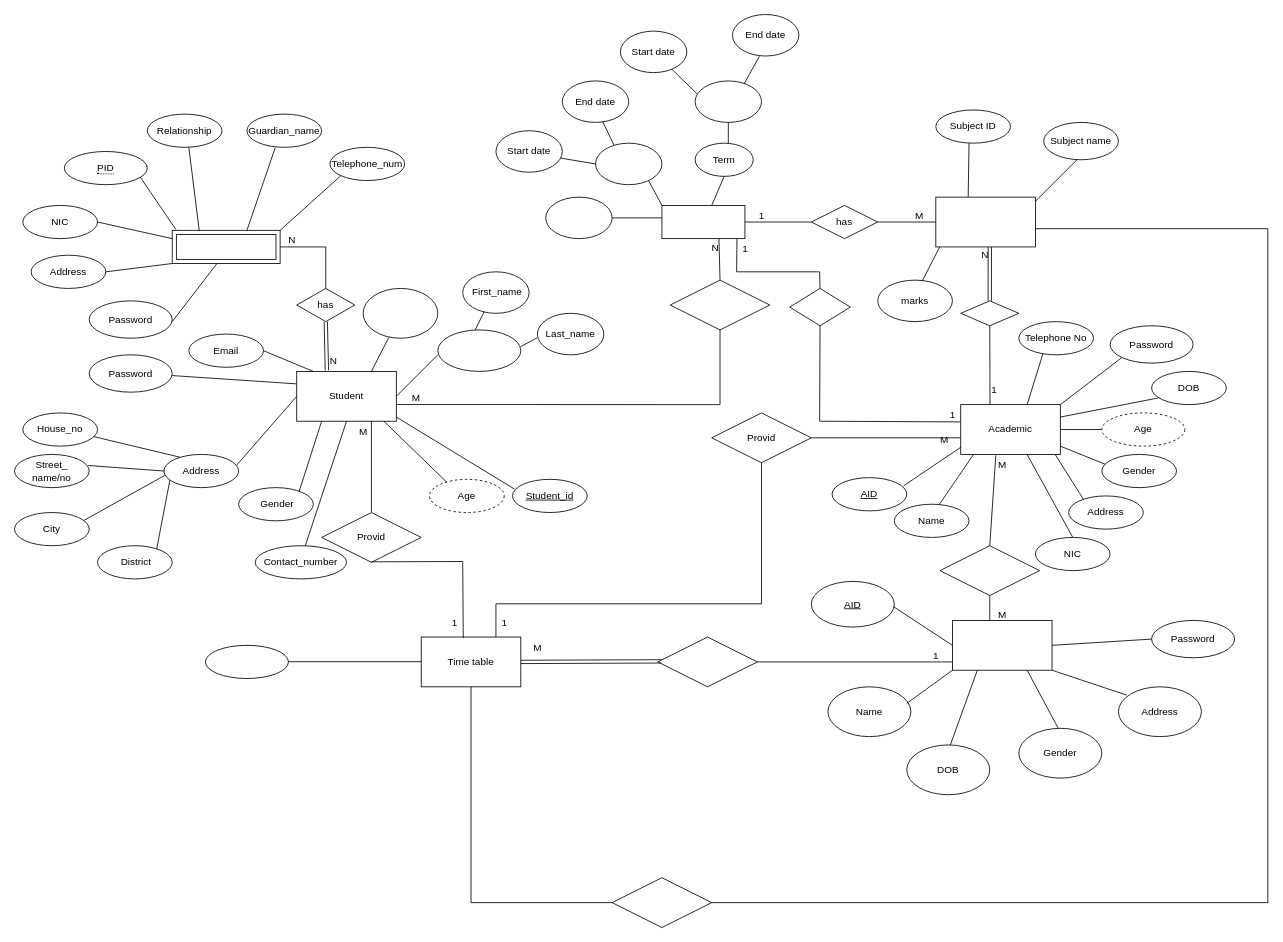
This 1283x942 diagram has some shape labels left out. Here are the shapes that lost their labels. From the top down, the centre of each, then its label:
At point (728, 101): "Date".
At point (628, 163): "Year".
At point (578, 217): "Grade id".
At point (703, 222): "class".
At point (985, 221): "Subject".
At point (225, 246): "Parent".
At point (400, 313): "Date_of_birth".
At point (719, 304): "Enroll".
At point (819, 307): "Guide".
At point (989, 313): "Teach".
At point (479, 350): "Student_name".
At point (989, 570): "Help".
At point (246, 661): "Time".
At point (707, 661): "Create".
At point (1002, 645): "Non-Academic Staff".
At point (661, 902): "Provide".
